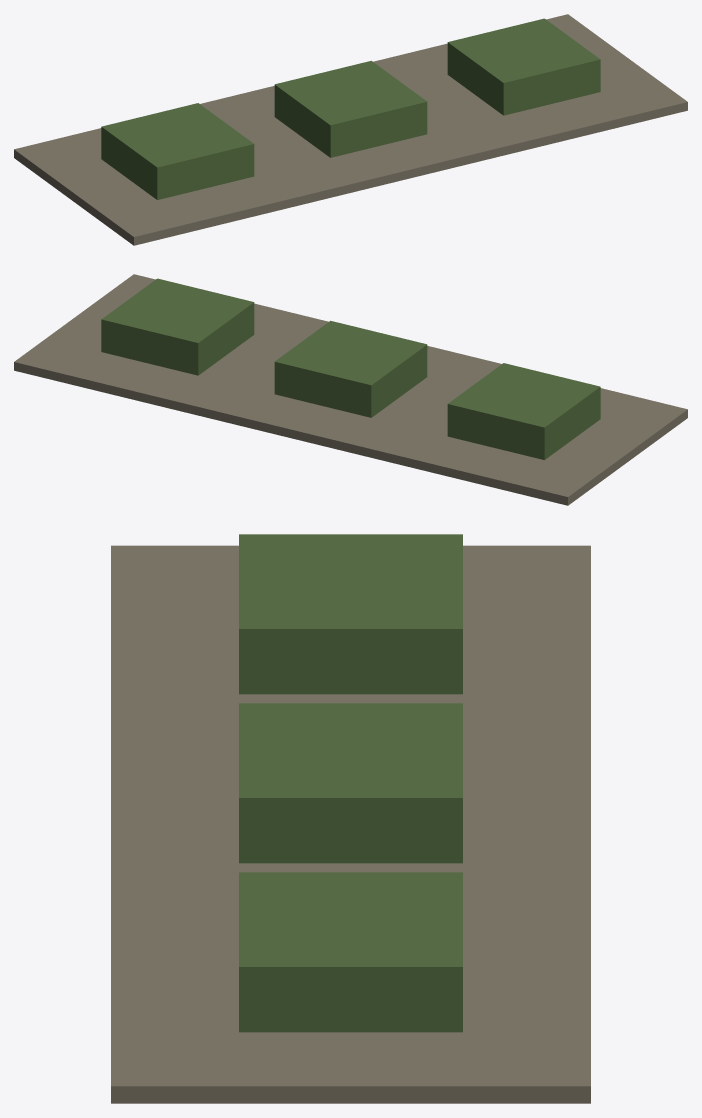
Rendered from botanical-garden.glb.
The picture shows the model from 3 angles, top to bottom: view 1: azimuth 30°, elevation 25°; view 2: azimuth 150°, elevation 25°; view 3: azimuth 270°, elevation 25°; orthographic projection. The views are drawn at different scales.
Parts seen in each view (by area): view 1: botanical-garden-static-garden-path, botanical-garden-static-garden-leaf; view 2: botanical-garden-static-garden-path, botanical-garden-static-garden-leaf; view 3: botanical-garden-static-garden-path, botanical-garden-static-garden-leaf.
Boxes of the visible parts, x1,y1,x2,y2 form: botanical-garden-static-garden-path: (14,14,687,245); botanical-garden-static-garden-leaf: (101,18,600,199); botanical-garden-static-garden-path: (14,274,687,505); botanical-garden-static-garden-leaf: (101,278,600,459); botanical-garden-static-garden-path: (111,545,590,1103); botanical-garden-static-garden-leaf: (239,534,462,1032).
Bounding box in the file's own units: 8 × 0.57 × 3.
